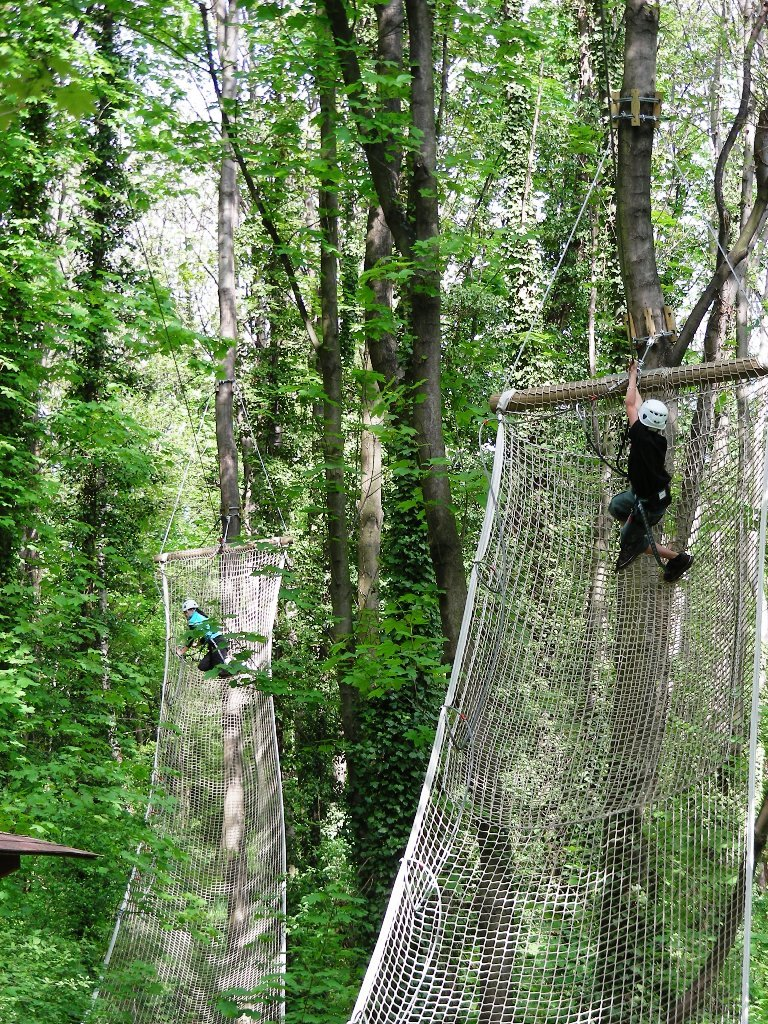Person: (606, 358, 694, 581), (178, 600, 238, 679)
